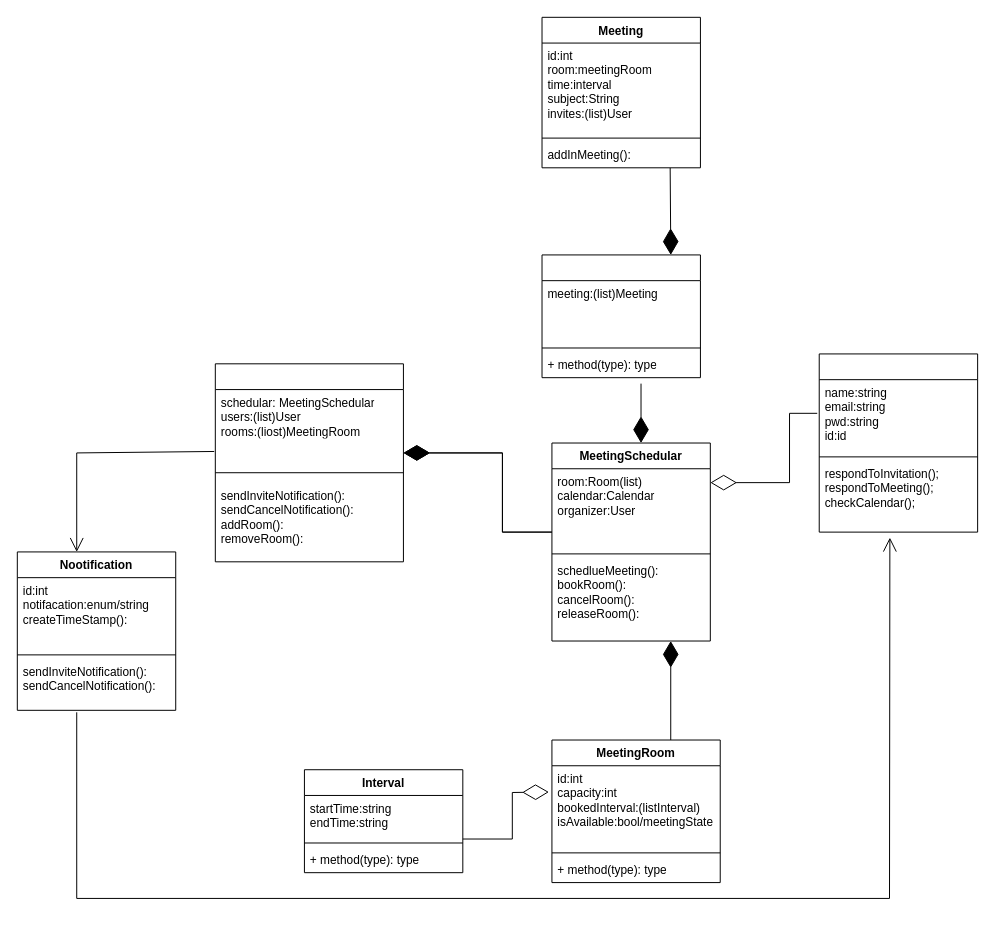
Some shapes in this 995 by 930 pixel diagram are drawn without their labels. Here are the shapes that lost their labels. From the top down, the box of each, then its label:
(541, 254, 700, 378): Calendar
(214, 363, 403, 562): MeetingSchedularSystem
(818, 353, 978, 532): User
